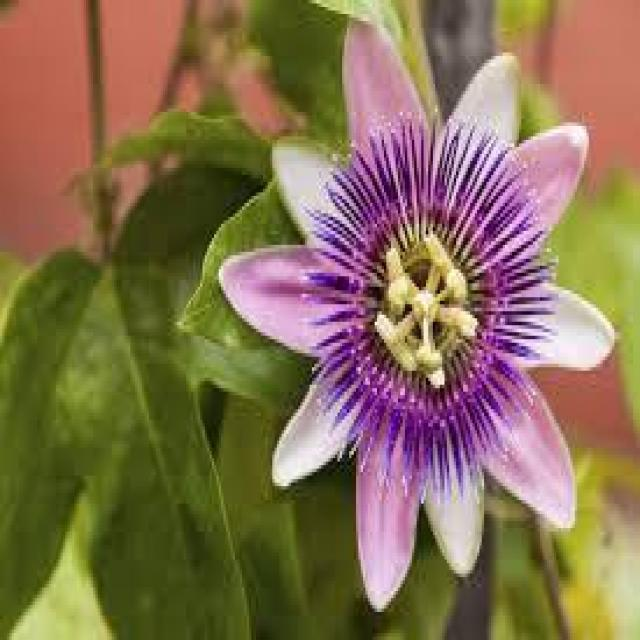organic waste: (210, 37, 622, 582)
